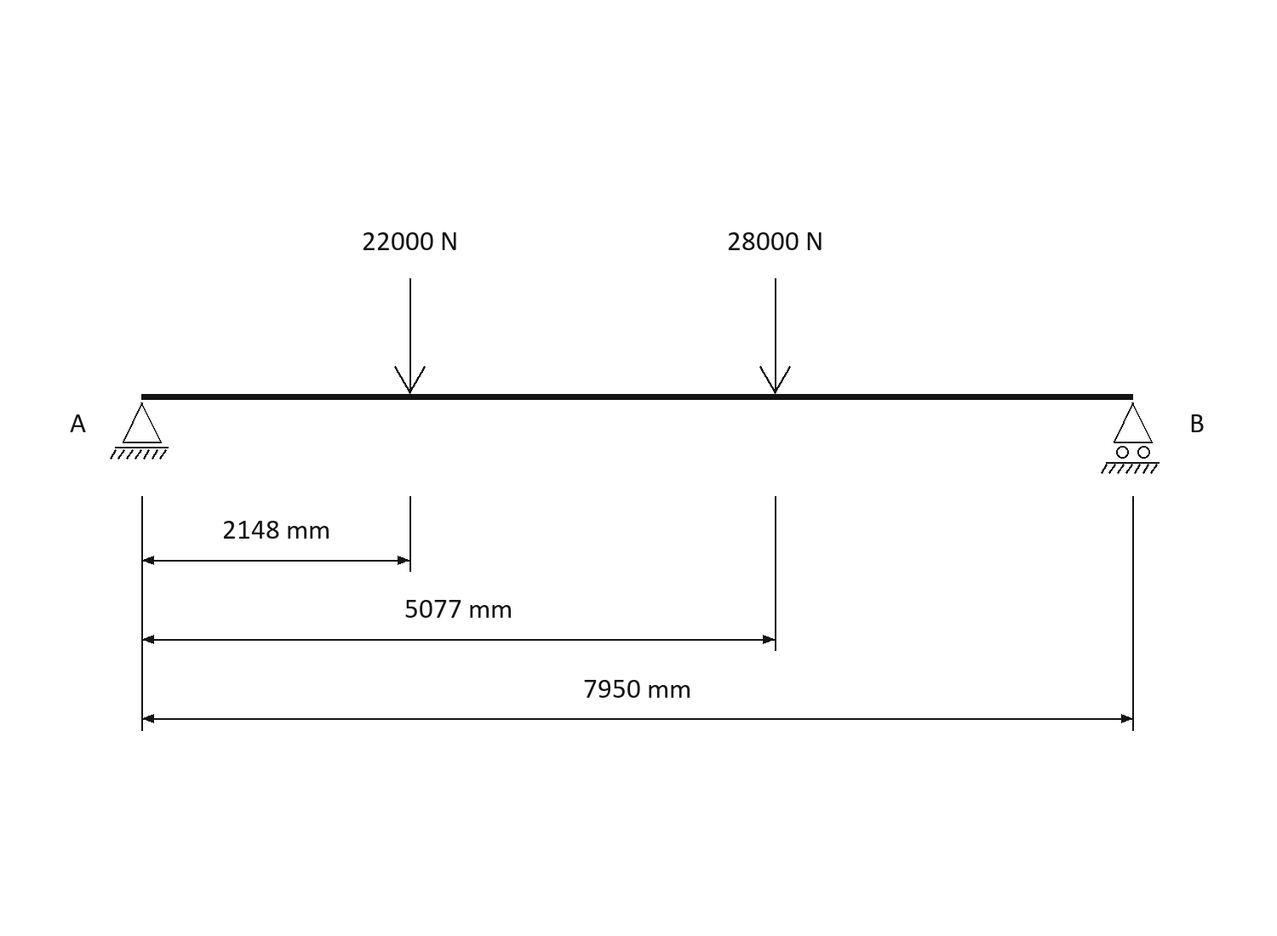pin_support: (110, 402, 169, 459)
point_load: (394, 278, 426, 394), (759, 278, 791, 394)
roller_support: (1101, 402, 1160, 474)
